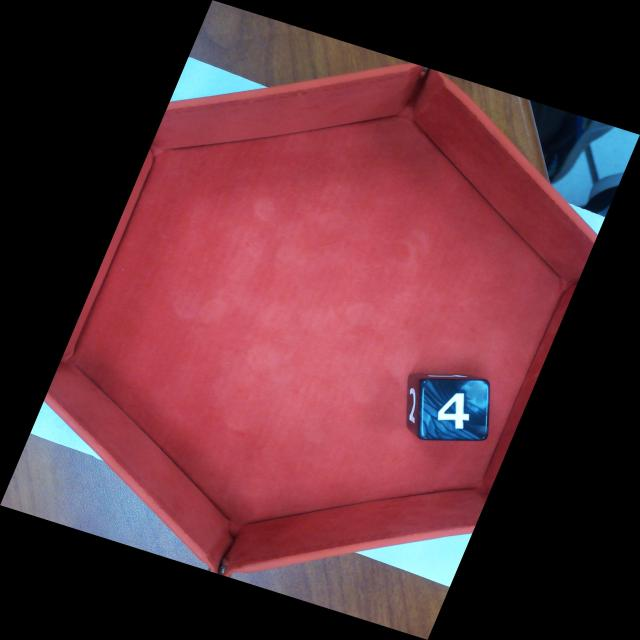dice: (418, 376, 491, 443)
